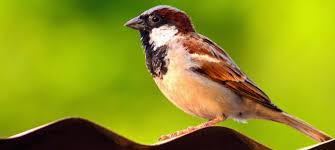hsparrow: (123, 3, 335, 144)
